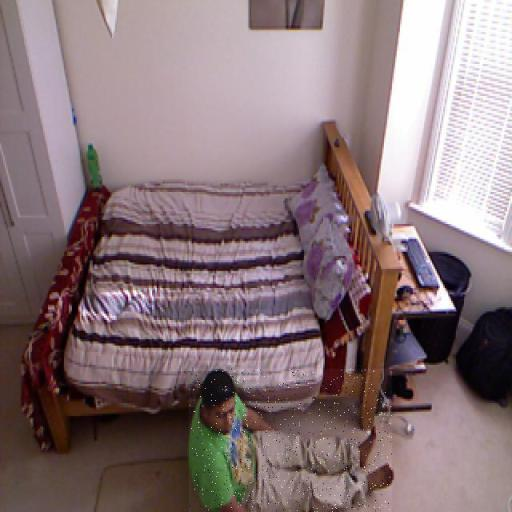Fall: (189, 369, 392, 512)
